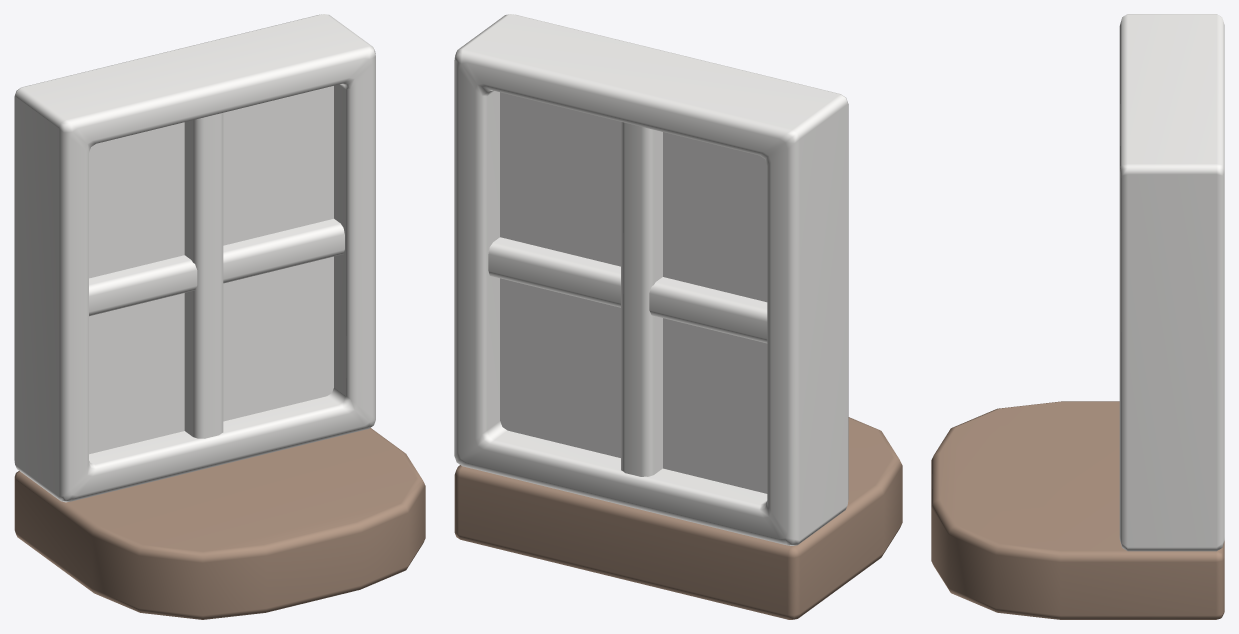
Rendered from Window_15.glb.
The picture shows the model from 3 angles, left to right: view 1: azimuth 30°, elevation 25°; view 2: azimuth 150°, elevation 25°; view 3: azimuth 270°, elevation 25°; orthographic projection. The views are drawn at different scales.
Parts seen in each view (by area): view 1: Window_15; view 2: Window_15; view 3: Window_15.
Boxes of the visible parts, <box> form: Window_15: <box>14,14,425,619</box>; Window_15: <box>454,14,902,619</box>; Window_15: <box>931,14,1224,619</box>.
Bounding box in the file's own units: 0.8183 × 1.11 × 0.6493.
2 materials, 2 textured.
